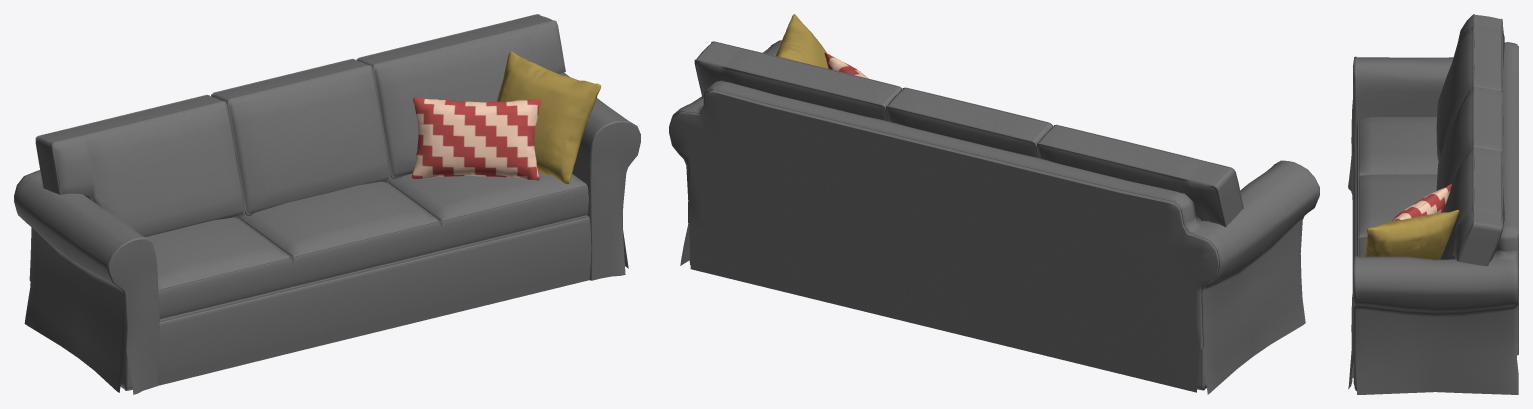
The picture shows the model from 3 angles, left to right: view 1: azimuth 30°, elevation 25°; view 2: azimuth 150°, elevation 25°; view 3: azimuth 270°, elevation 25°; orthographic projection. The views are drawn at different scales.
Visible parts, largest first — view 1: pCube5, _pCube32, polySurface15, _975:polySurface11, polySurface16, _pCube34, _pCube23, _pCube33, Pillow2:Mesh, Pillow1:Mesh, _pCube7; view 2: pCube5, polySurface15, polySurface16, _975:polySurface11, Pillow1:Mesh; view 3: pCube5, polySurface16, polySurface15, _pCube23, _975:polySurface11, _pCube34, Pillow1:Mesh, Pillow2:Mesh, _pCube32, _pCube7, _pCube33.
Part boxes in pixels (x1,y1,x2,y2): pCube5: (14, 72, 640, 394); _pCube32: (157, 216, 591, 385); polySurface15: (35, 94, 244, 236); _975:polySurface11: (211, 58, 390, 215); polySurface16: (356, 14, 565, 178); _pCube34: (236, 181, 441, 286); _pCube23: (145, 217, 292, 319); _pCube33: (387, 172, 588, 250); Pillow2:Mesh: (412, 97, 540, 180); Pillow1:Mesh: (497, 51, 601, 184); _pCube7: (160, 215, 587, 320); pCube5: (669, 40, 1319, 394); polySurface15: (1037, 124, 1243, 227); polySurface16: (694, 41, 902, 121); _975:polySurface11: (886, 87, 1053, 157); Pillow1:Mesh: (776, 14, 828, 68); pCube5: (1348, 42, 1518, 394); polySurface16: (1440, 147, 1504, 266); polySurface15: (1436, 14, 1504, 161); _pCube23: (1356, 117, 1438, 185); _975:polySurface11: (1436, 86, 1503, 190); _pCube34: (1356, 174, 1437, 246); Pillow1:Mesh: (1364, 210, 1459, 259); Pillow2:Mesh: (1392, 184, 1451, 221); _pCube32: (1352, 146, 1355, 369); _pCube7: (1355, 148, 1356, 255); _pCube33: (1356, 237, 1366, 256).
Bounding box in the file's own units: 1.92 × 0.6884 × 0.6239.
Materials: 1 (1 with a texture image).
